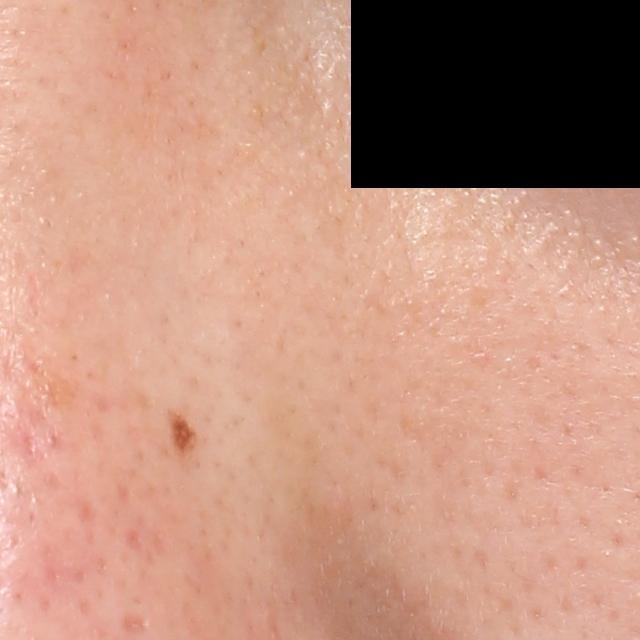atrophic_scar: (114, 611, 150, 635)
nevus: (169, 407, 200, 462)
